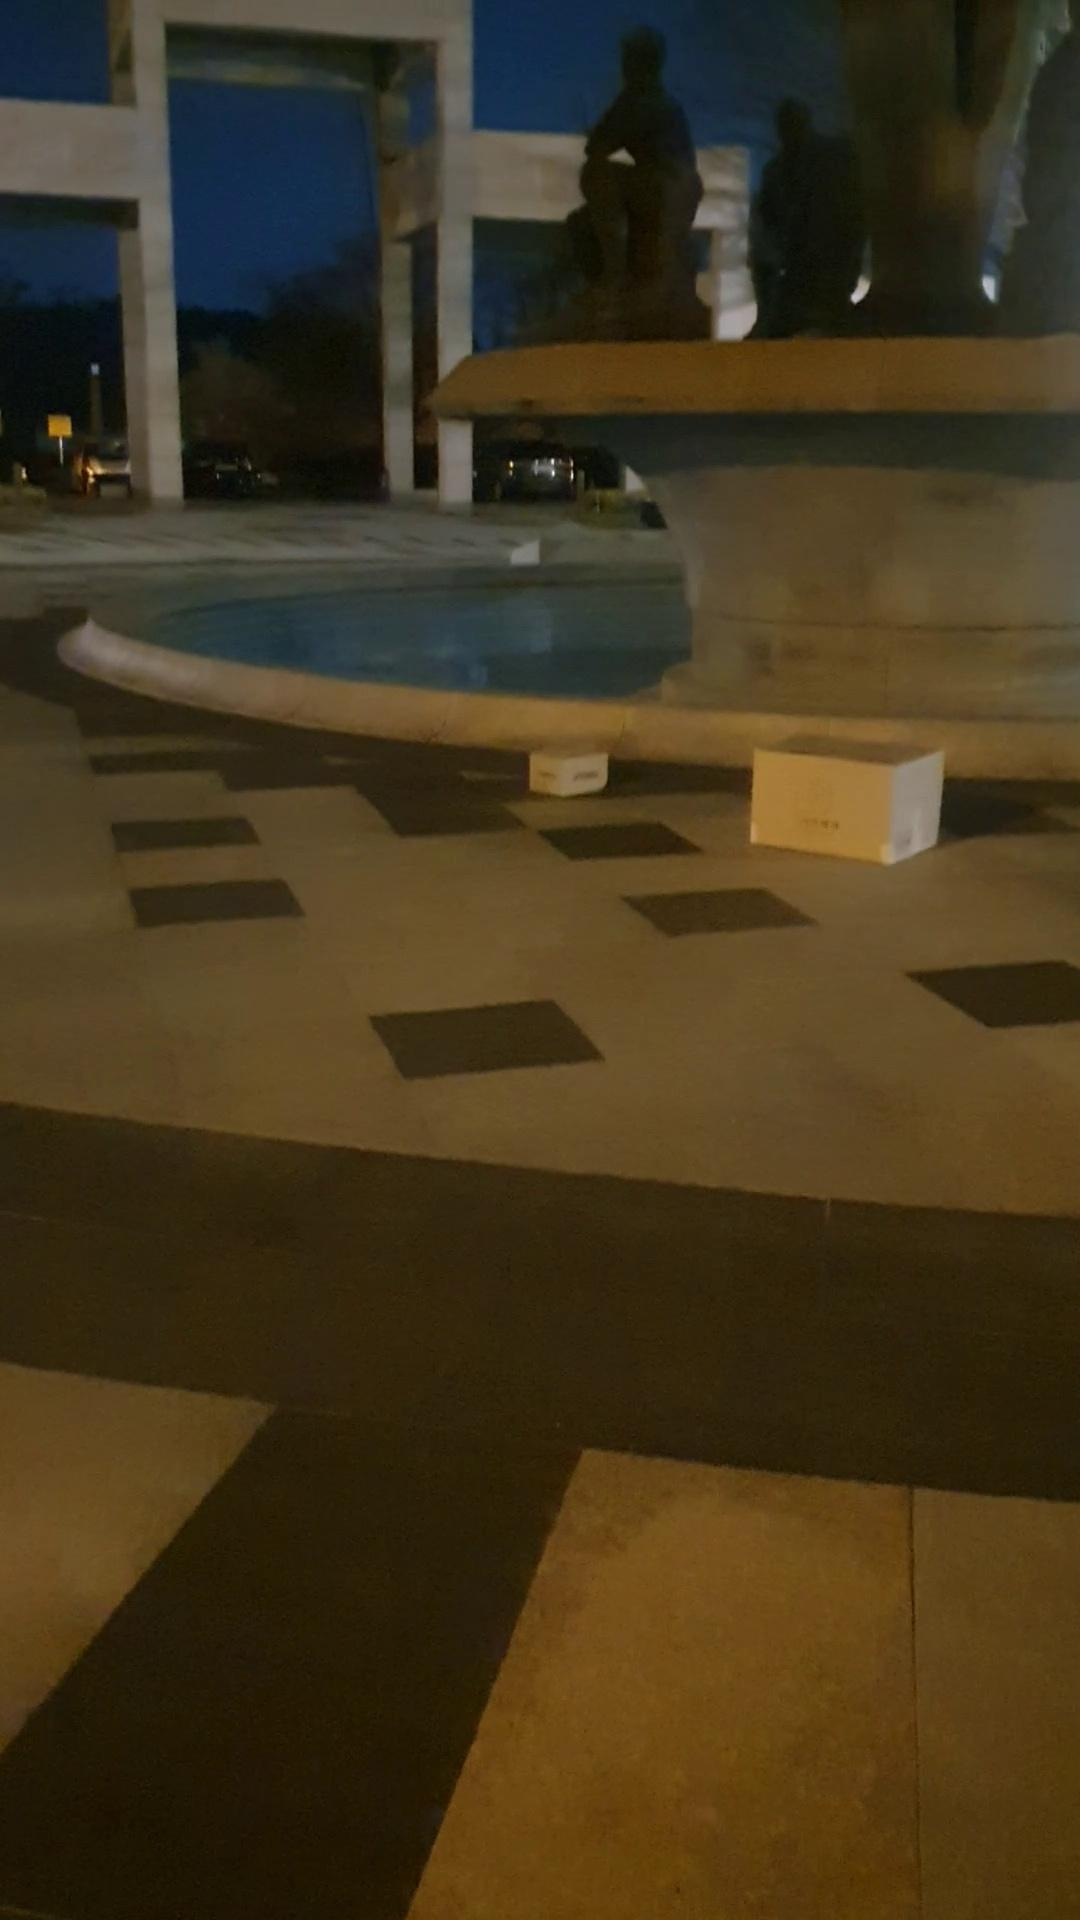Box: (703, 709, 986, 895), (488, 708, 645, 835)
